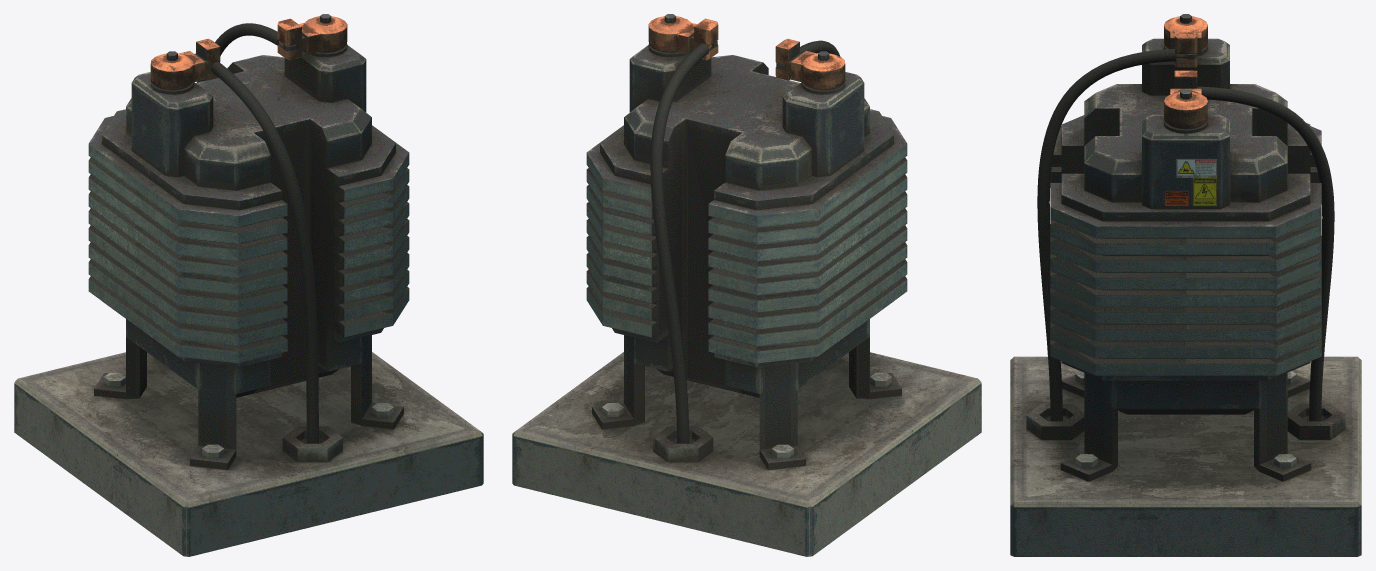
Rendered from transformer.glb.
The picture shows the model from 3 angles, left to right: view 1: azimuth 30°, elevation 25°; view 2: azimuth 150°, elevation 25°; view 3: azimuth 270°, elevation 25°; orthographic projection.
Parts seen in each view (by area): view 1: Object_2; view 2: Object_2; view 3: Object_2.
Part boxes in pixels (left/top/right/bottom): Object_2: left=14, top=14, right=483, bottom=556; Object_2: left=512, top=14, right=981, bottom=556; Object_2: left=1010, top=14, right=1361, bottom=556.
Bounding box in the file's own units: 4.24 × 5.71 × 4.24.
Materials: 1 (1 with a texture image).
